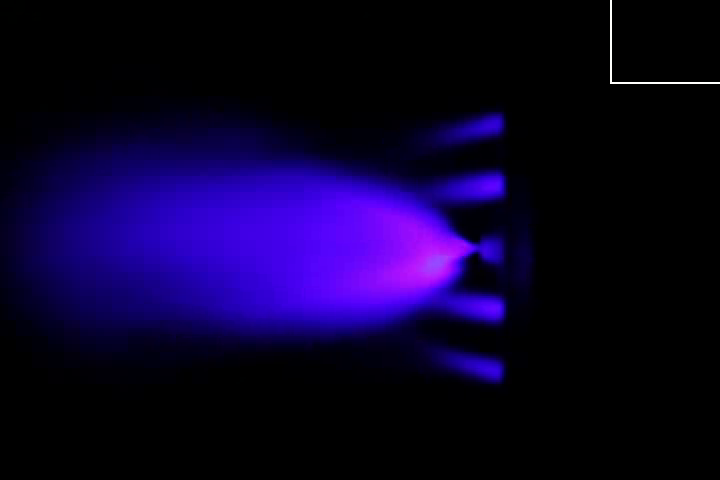burner cap: (480, 237, 502, 269)
pilot flame: (389, 167, 505, 205), (414, 341, 502, 387), (425, 293, 506, 329), (418, 114, 502, 146)
unstable: (365, 195, 474, 293)
